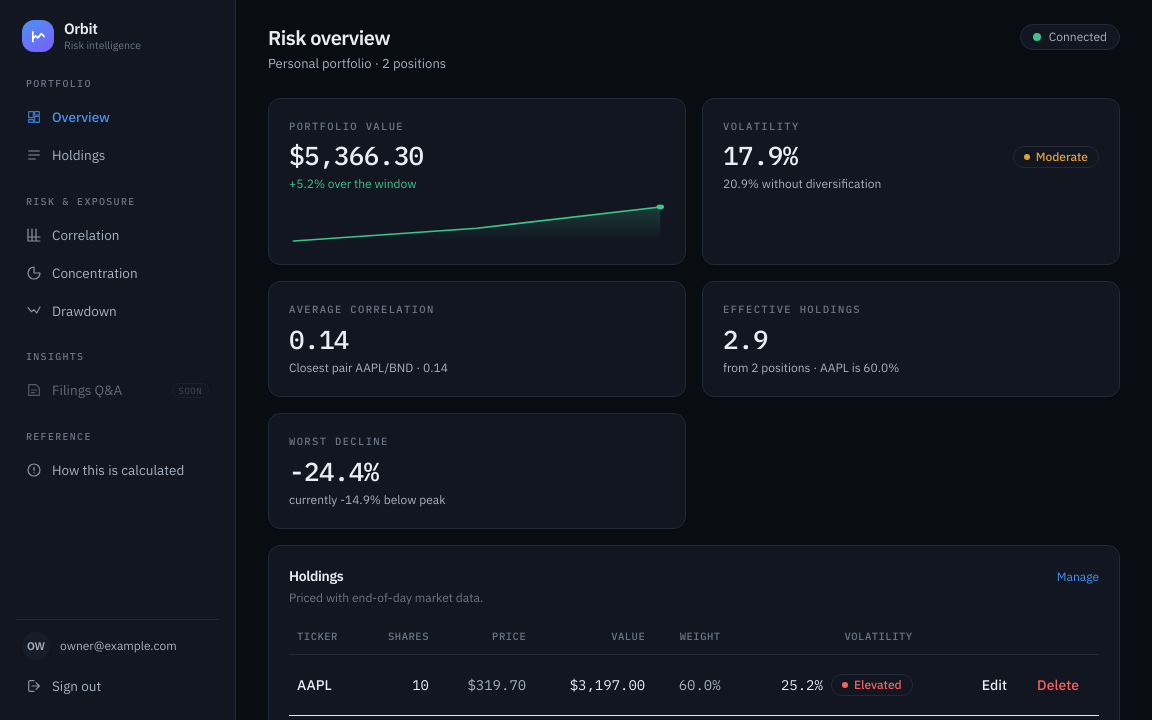
Authentication gate (US-13) › signs out back to the sign-in screen
Expected: the text "Portfolio value" is shown, x1=289 y1=118 x2=404 y2=132
Click the button "Sign out".
click(118, 686)  # box x1=16 y1=668 x2=219 y2=704
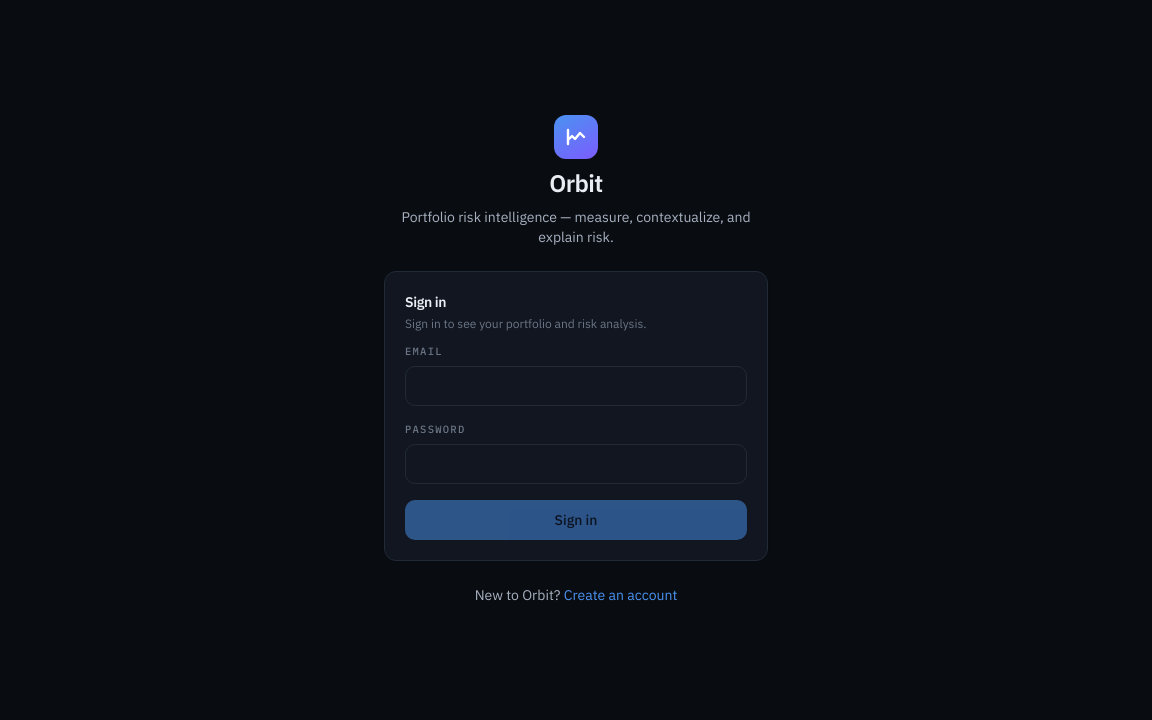
Result: the heading "Sign in" is shown at x1=405 y1=293 x2=446 y2=311
